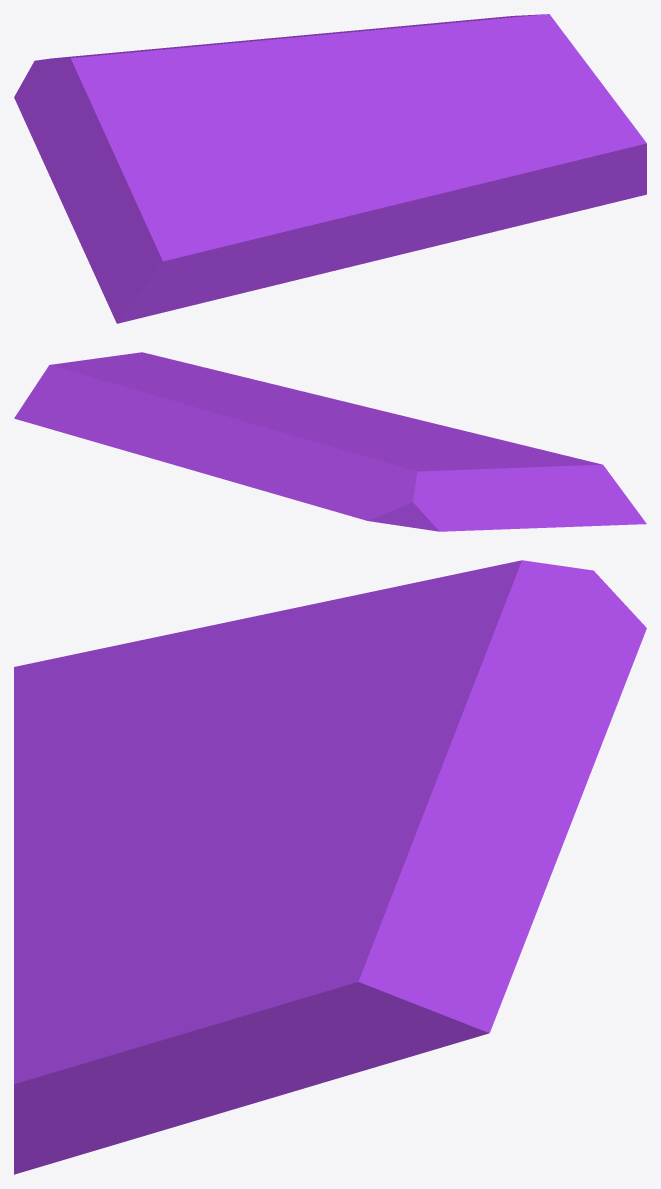
The model's file is Window_167_1_chunks.fbx.
The picture shows the model from 3 angles, top to bottom: view 1: azimuth 30°, elevation 25°; view 2: azimuth 150°, elevation 25°; view 3: azimuth 270°, elevation 25°; orthographic projection. The views are drawn at different scales.
Visible parts, largest first — view 1: Window_167_1_1, Window_167_1_9, Window_167_1_21, Window_167_1_14, Window_167_1_19, Window_167_1_7, Window_167_1_17, Window_167_1_2, Window_167_1_12, Window_167_1_10, Window_167_1_11, Window_167_1_16 (+2 smaller); view 2: Window_167_1_14, Window_167_1_2, Window_167_1_17, Window_167_1_3, Window_167_1_13, Window_167_1_10, Window_167_1_6, Window_167_1_1, Window_167_1_9, Window_167_1_12, Window_167_1_7, Window_167_1_21 (+4 smaller); view 3: Window_167_1_9, Window_167_1_1, Window_167_1_2, Window_167_1_10, Window_167_1_13, Window_167_1_7, Window_167_1_12, Window_167_1_3, Window_167_1_6, Window_167_1_11, Window_167_1_21, Window_167_1_19 (+4 smaller).
Part boxes in pixels (left/top/right/bottom): Window_167_1_1: left=168, top=91, right=300, bottom=311; Window_167_1_9: left=400, top=42, right=646, bottom=172; Window_167_1_21: left=280, top=156, right=495, bottom=283; Window_167_1_14: left=62, top=153, right=172, bottom=323; Window_167_1_19: left=473, top=134, right=646, bottom=229; Window_167_1_7: left=292, top=89, right=421, bottom=250; Window_167_1_17: left=14, top=70, right=132, bottom=189; Window_167_1_2: left=24, top=47, right=252, bottom=114; Window_167_1_12: left=388, top=14, right=570, bottom=79; Window_167_1_10: left=193, top=27, right=404, bottom=90; Window_167_1_11: left=253, top=50, right=436, bottom=118; Window_167_1_16: left=123, top=98, right=169, bottom=181; Window_167_1_14: left=498, top=458, right=646, bottom=528; Window_167_1_2: left=325, top=434, right=428, bottom=529; Window_167_1_17: left=425, top=460, right=526, bottom=531; Window_167_1_3: left=246, top=440, right=364, bottom=519; Window_167_1_13: left=14, top=367, right=145, bottom=433; Window_167_1_10: left=132, top=398, right=336, bottom=444; Window_167_1_6: left=52, top=429, right=259, bottom=485; Window_167_1_1: left=337, top=427, right=592, bottom=462; Window_167_1_9: left=70, top=352, right=268, bottom=402; Window_167_1_12: left=48, top=362, right=202, bottom=406; Window_167_1_7: left=240, top=400, right=470, bottom=432; Window_167_1_21: left=273, top=387, right=466, bottom=431; Window_167_1_9: left=14, top=857, right=394, bottom=1164; Window_167_1_1: left=14, top=654, right=347, bottom=785; Window_167_1_2: left=340, top=560, right=646, bottom=726; Window_167_1_10: left=348, top=668, right=498, bottom=894; Window_167_1_13: left=314, top=874, right=506, bottom=1061; Window_167_1_7: left=14, top=766, right=270, bottom=881; Window_167_1_12: left=273, top=842, right=432, bottom=1019; Window_167_1_3: left=477, top=631, right=645, bottom=766; Window_167_1_6: left=486, top=742, right=592, bottom=989; Window_167_1_11: left=262, top=727, right=364, bottom=889; Window_167_1_21: left=14, top=789, right=119, bottom=953; Window_167_1_19: left=14, top=931, right=123, bottom=1174.
Bounding box in the file's own units: 1086 × 268 × 636.
